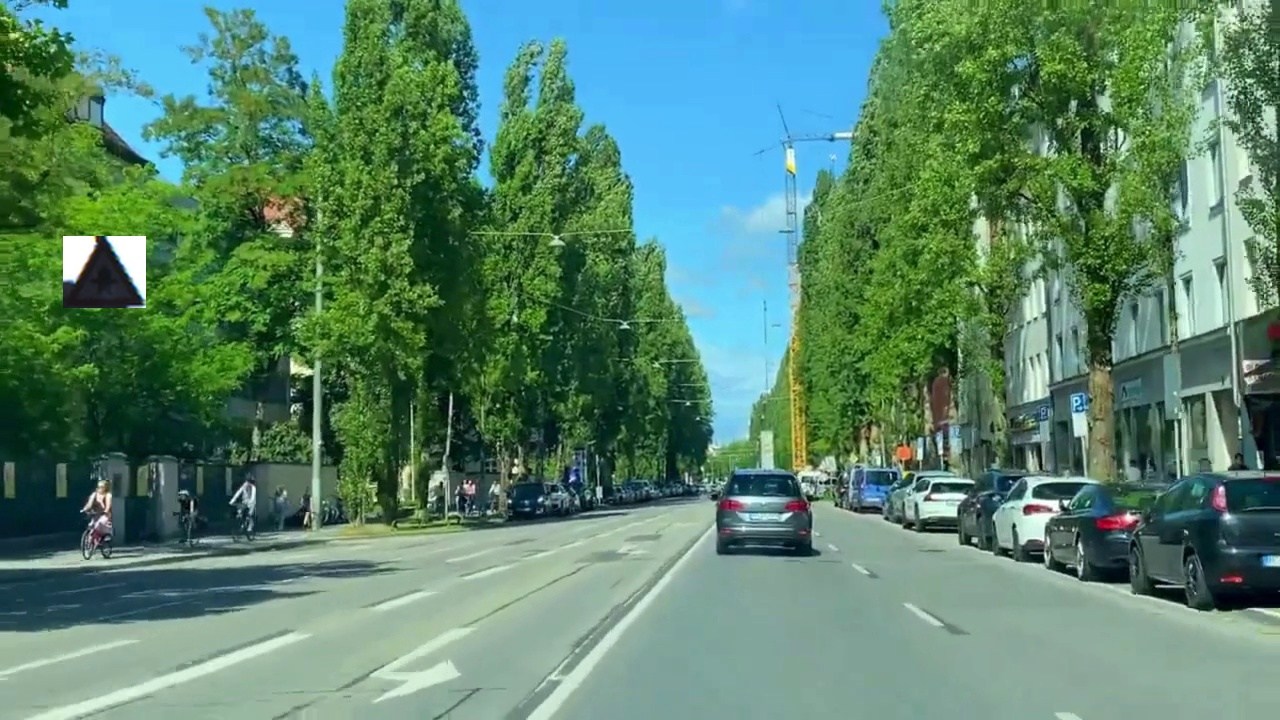Right-of-way: (63, 236, 146, 308)
